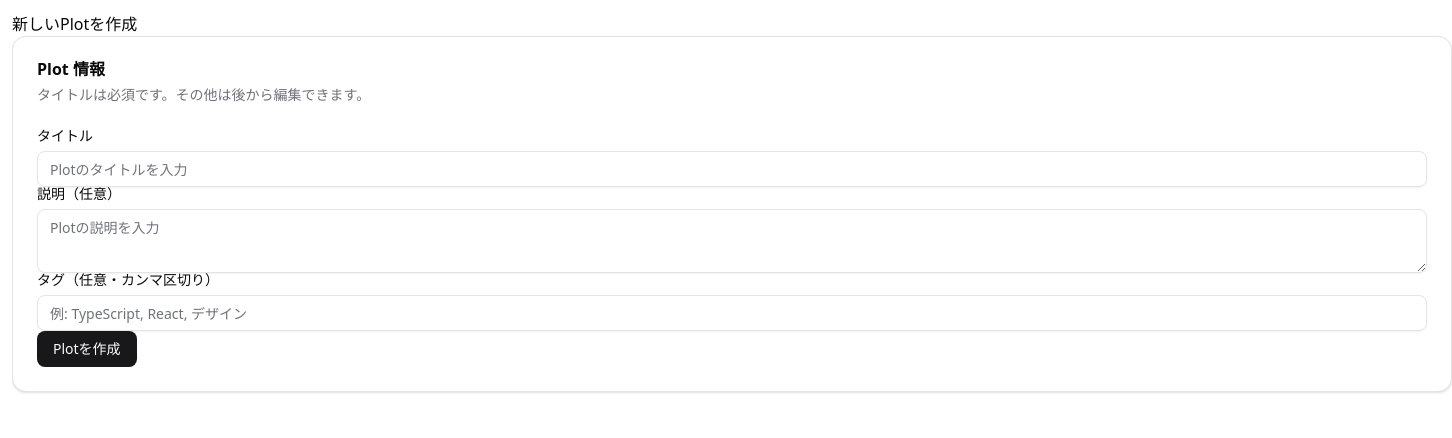
it: NewPlotPage › タイトルが空の場合、送信時にバリデーションエラーが表示される
Click the button "Plotを作成": [87, 349] box [37,331,137,367]
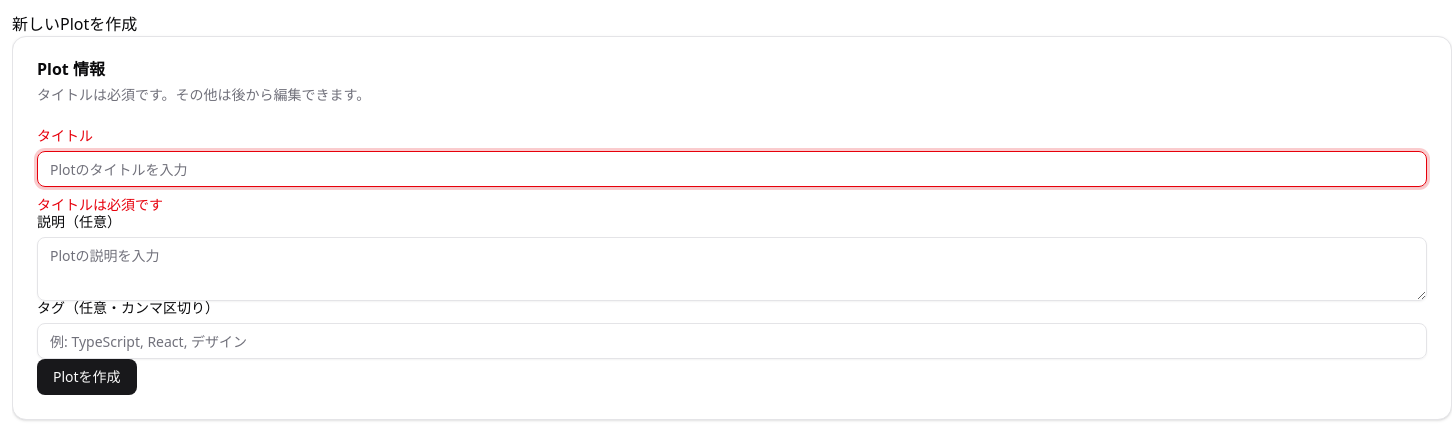
Result: the text "タイトルは必須です" is shown at [37,195,163,214]
